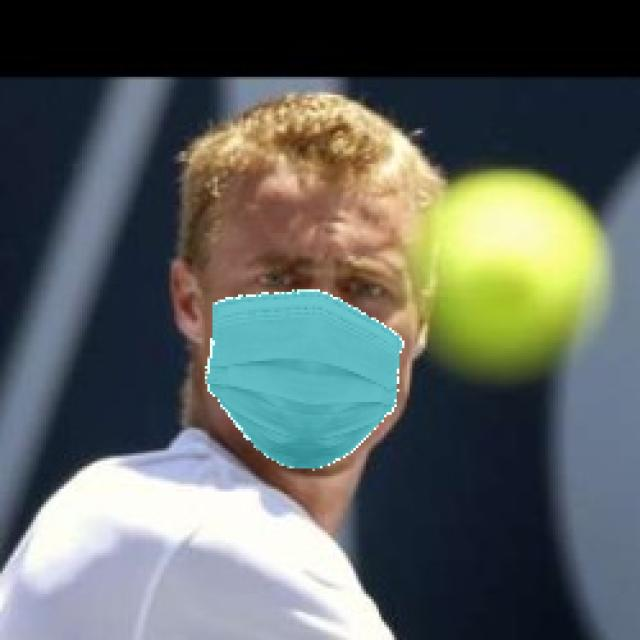mask: (195, 274, 417, 478)
